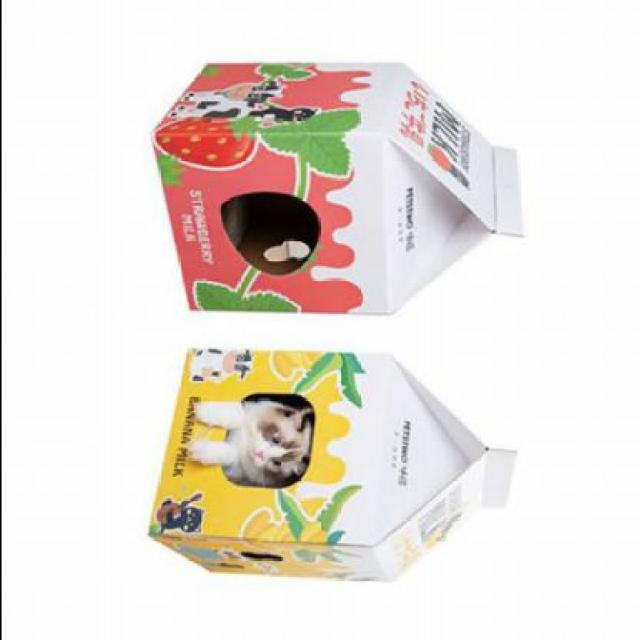non_white_jug: (127, 48, 539, 328), (134, 337, 541, 592)
